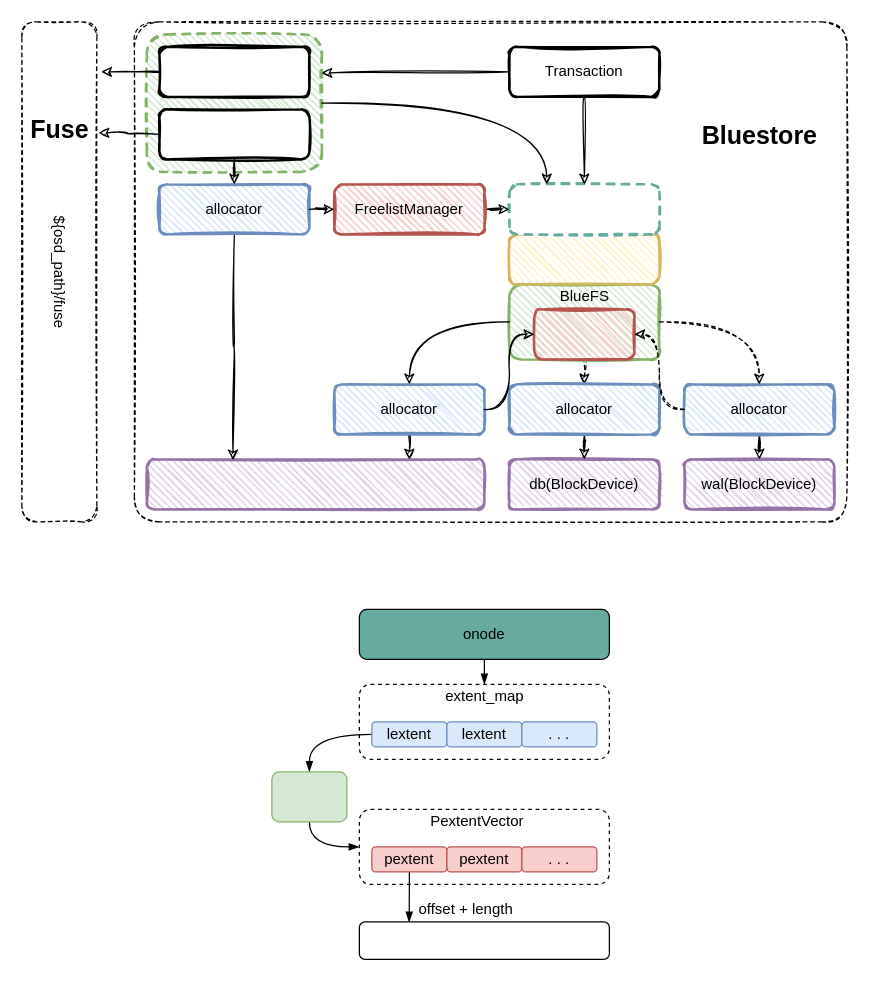
Some shapes in this 869 by 981 pixel diagram are drawn without their labels. Here are the shapes that lost their labels. From the top down, the box of each, then its label:
(158, 45, 310, 98): Collection
(158, 108, 310, 160): Object
(508, 182, 660, 235): RocksDB
(508, 232, 660, 285): BlueRocksEnv
(532, 308, 635, 360): log_file
(145, 458, 485, 510): data(BlockDevice)
(271, 771, 347, 822): blob
(358, 921, 609, 959): distk
